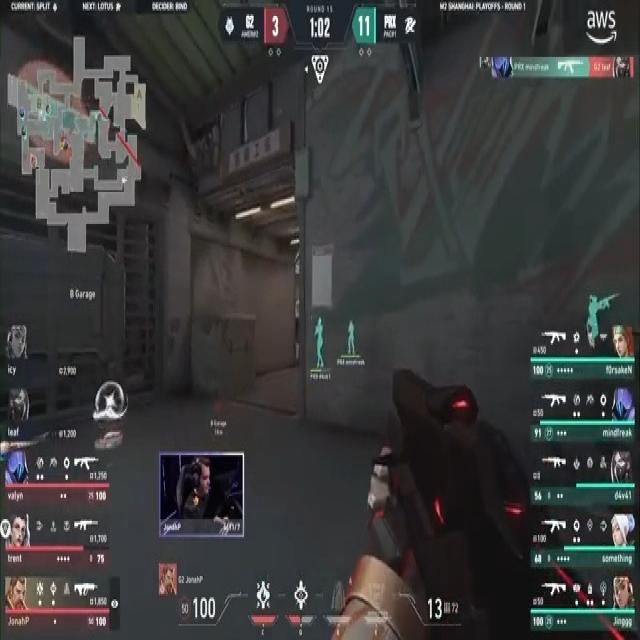ally behind wall: (586, 278, 618, 350), (311, 313, 331, 374), (342, 311, 360, 366)
